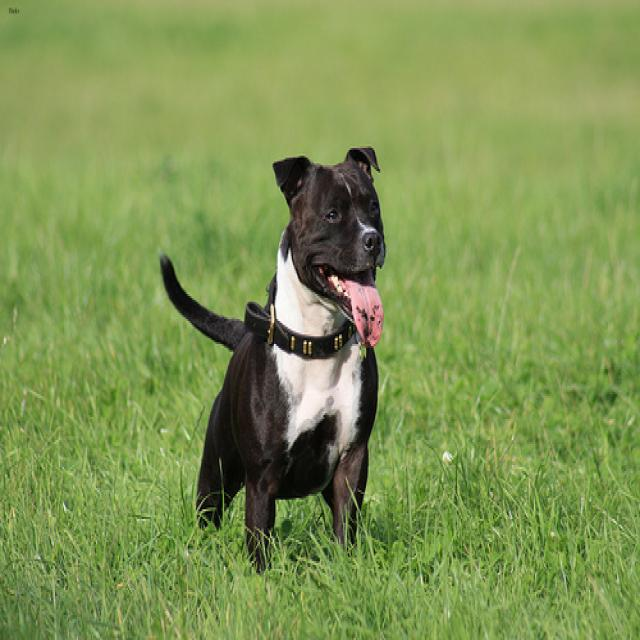dog-staffordshire_bull_terrier: (154, 136, 393, 582)
